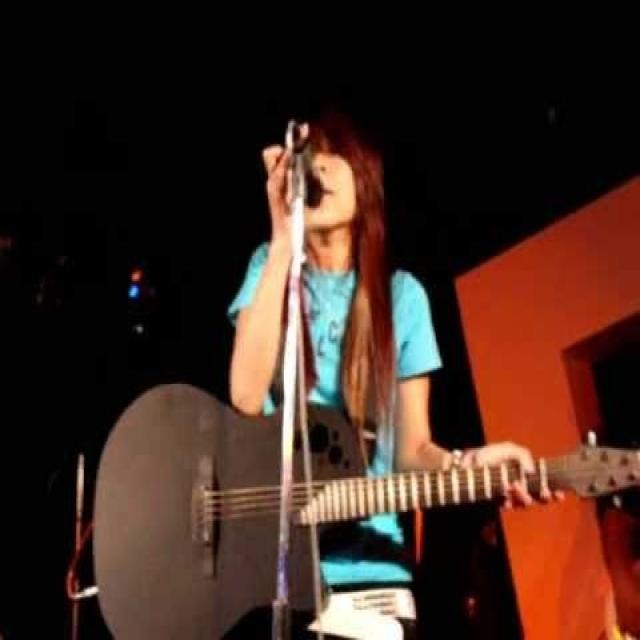guitar: (93, 378, 640, 638)
